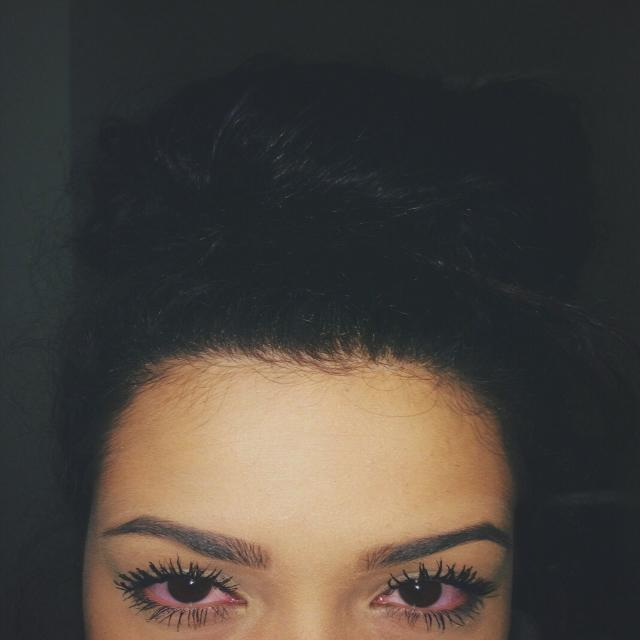eye: (106, 554, 256, 629), (364, 564, 503, 629)
gaze: (163, 568, 216, 606), (396, 574, 445, 612)
